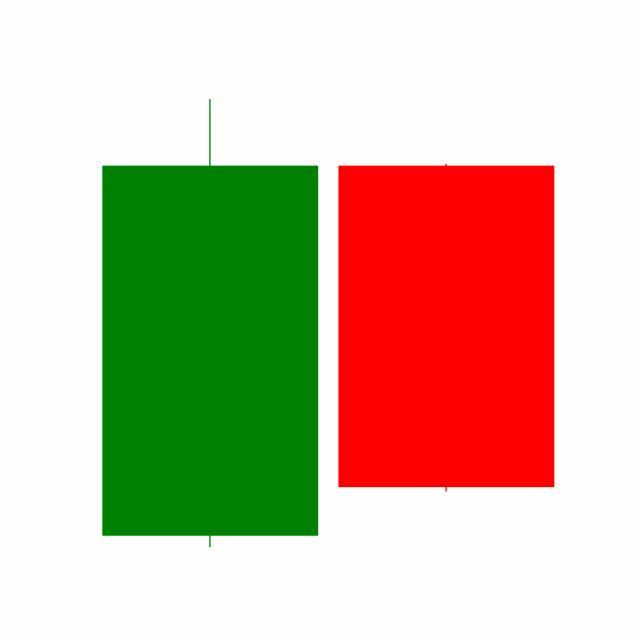Marubozu: (328, 161, 566, 496)
